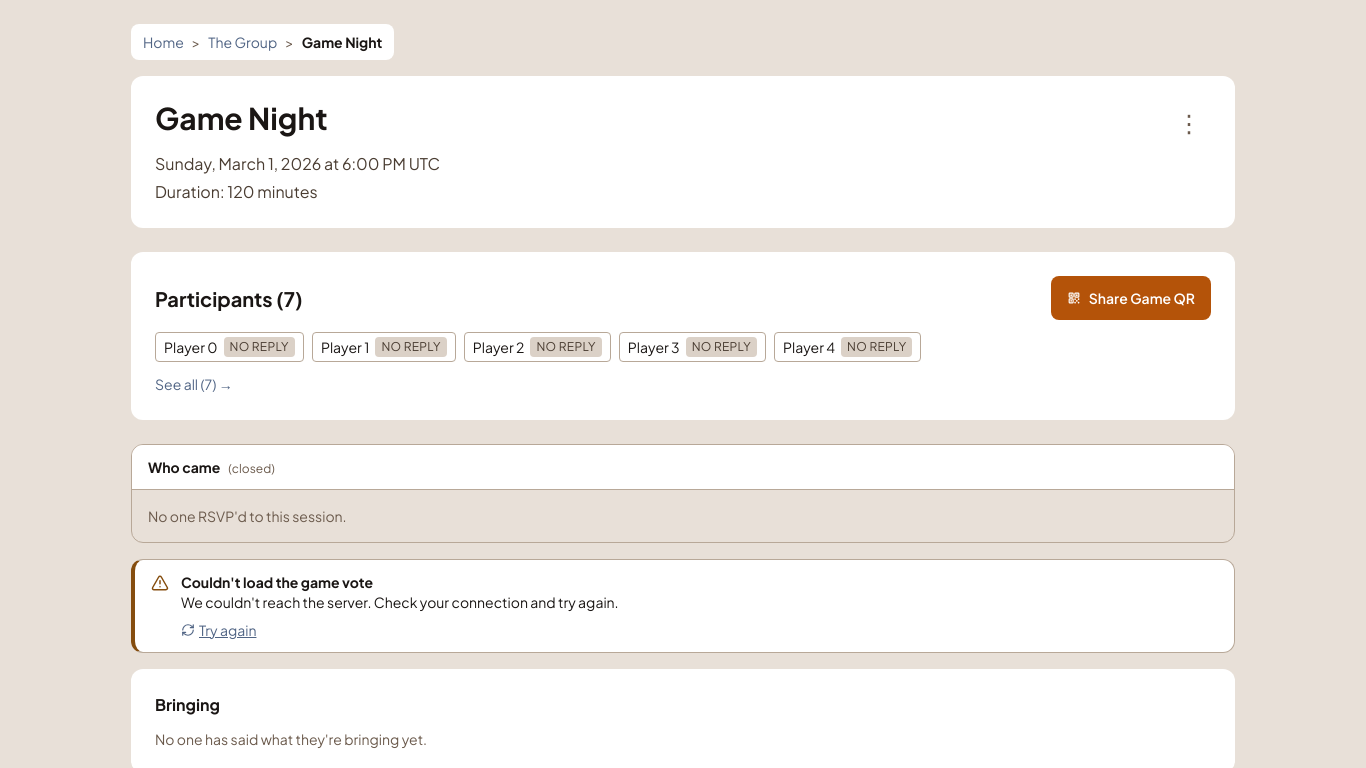
Test case: gameDetail guest invite from the event view (Req 15) › also offers it inside the See-all modal, for guests past the strip cutoff
What coordinates should you click on to do the following:
click the button "See all (7) →"
I would click on:
 (194, 384)
Its box is [155,374,233,394].
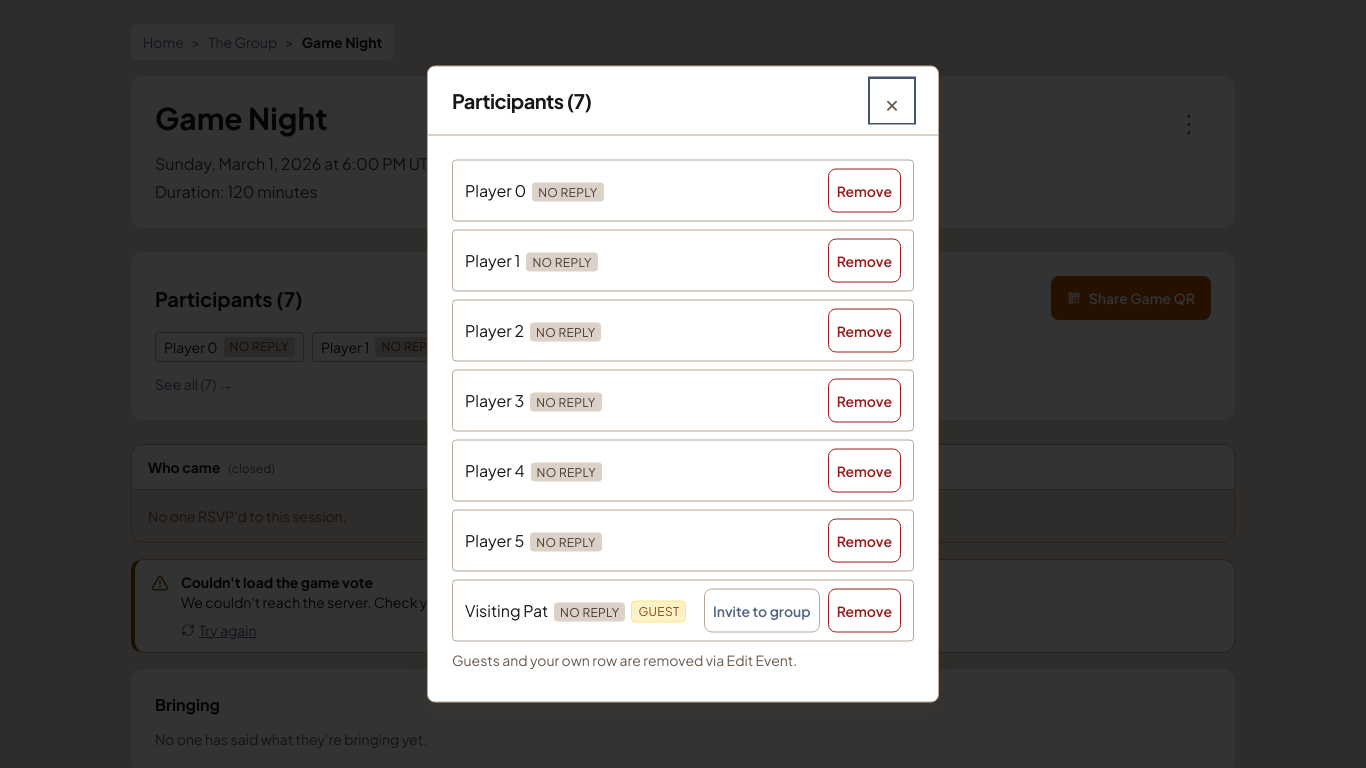
Now the button "Invite to group" is shown, box [704,588,820,632]
